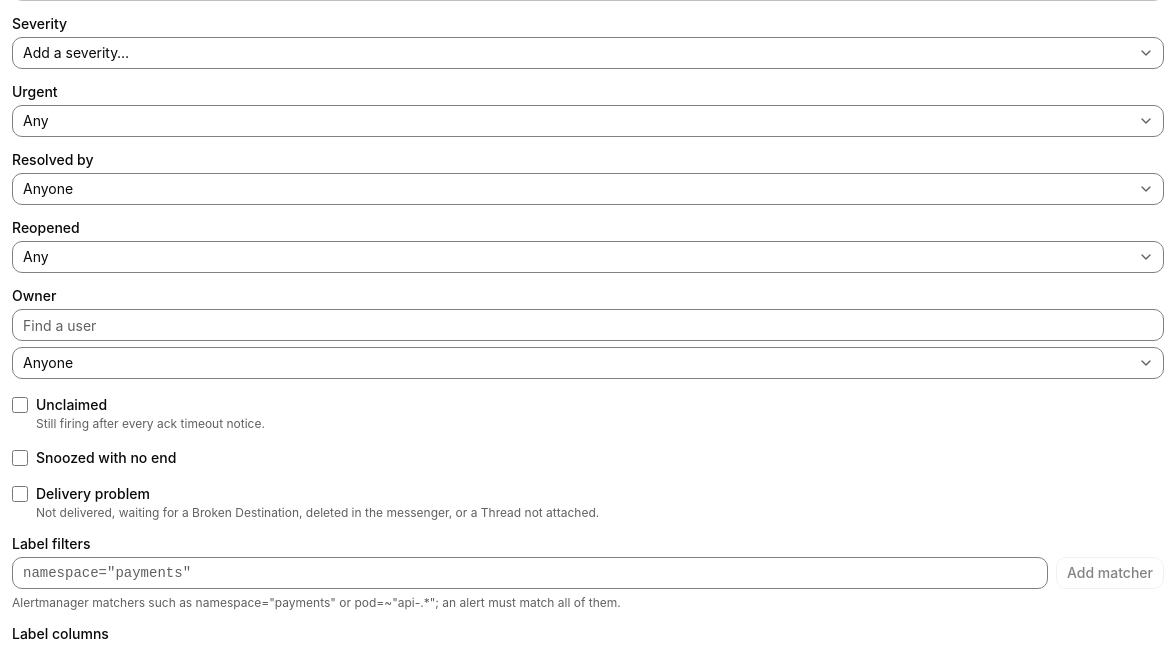
Test: AlertGroupFilters › a Matcher the server refuses leaves the URL as it was
(page scrolled)
Type "pod=~\"[\"" into the field labelled "Label filters".
click(530, 573); type("pod=~\"[\"")  # box [12, 557, 1048, 589]
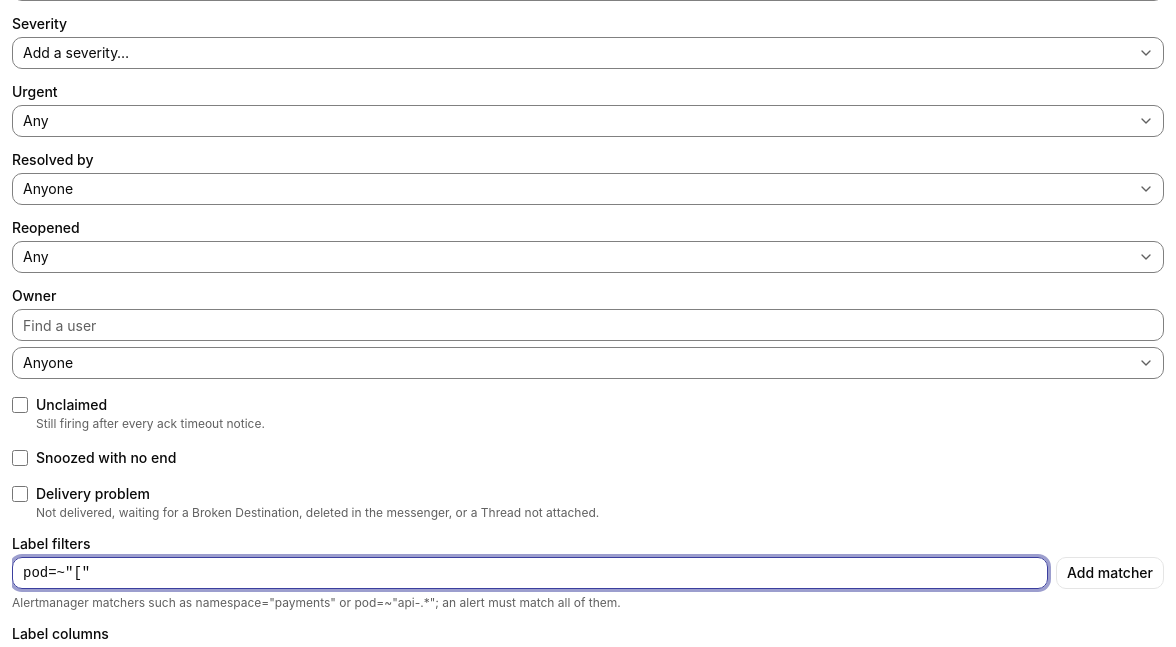
Press Enter
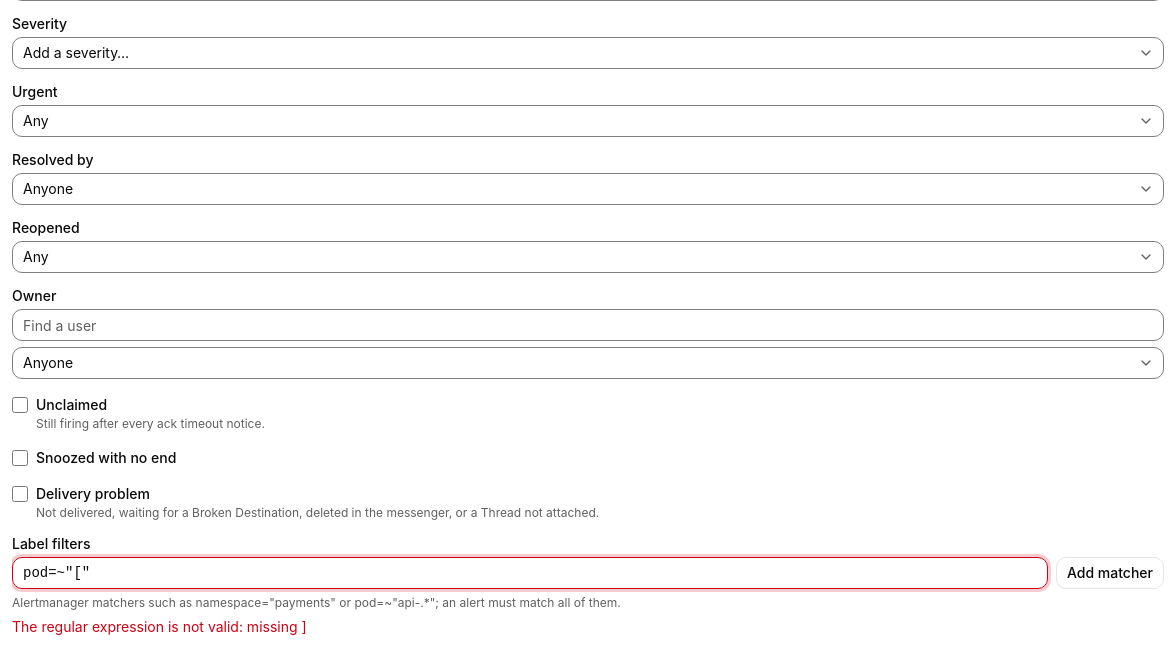
Now the message with test id "matcher-error" reads "The regular expression is not valid: missing ]", box [12, 618, 307, 635]
